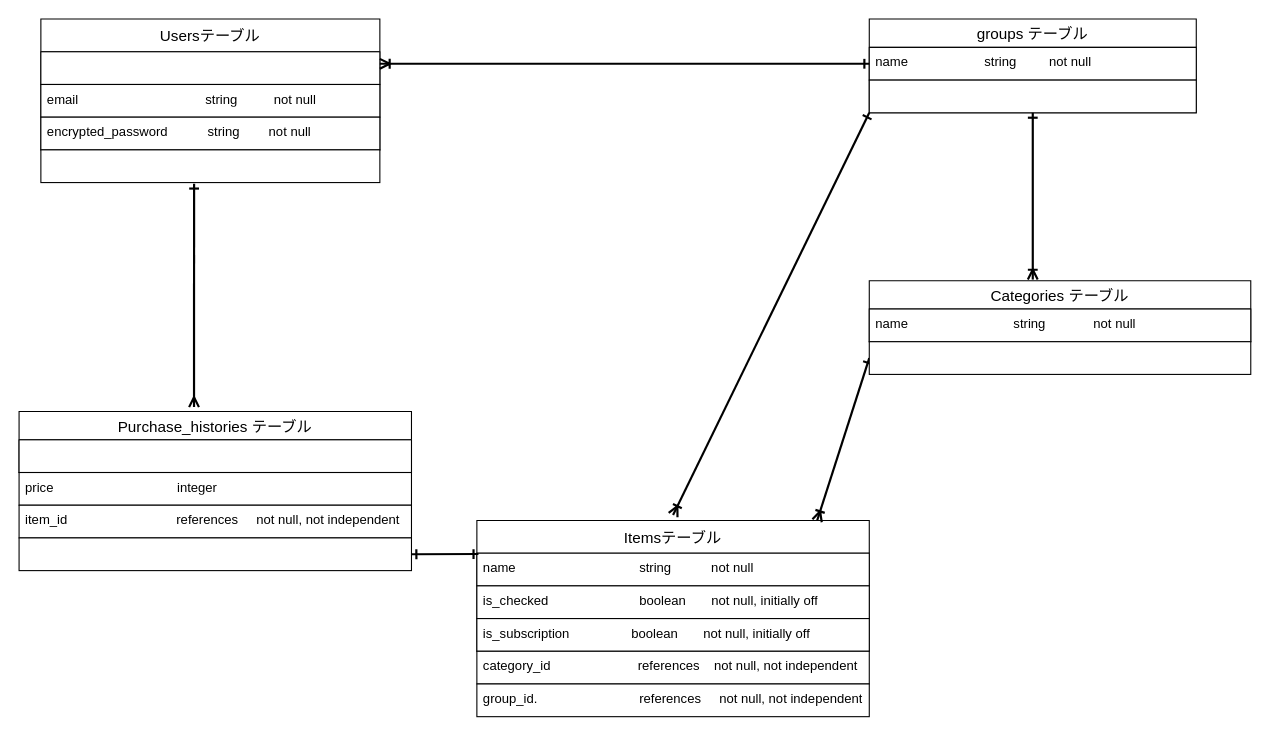
The diagram is 1270 pixels wide and 739 high, and some of its shapes have lost their labels. Here are the shapes that lost their labels. From the top down, the centre of each, then its label:
(x=210, y=67): nickname string not null
(x=1032, y=96): invite_token text not null, unique only
(x=210, y=166): group_id references not independent
(x=1059, y=357): group_id references not null, not independent
(x=214, y=456): purchased_at datetime not null
(x=214, y=554): user_id references not null, not independent
